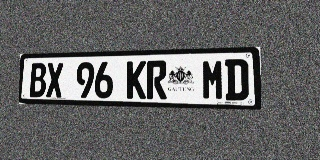6: (94, 61, 113, 98)
9: (76, 62, 94, 98)
B: (30, 63, 46, 97)
D: (225, 59, 249, 101)
K: (126, 61, 146, 99)
M: (202, 59, 224, 100)
R: (147, 60, 167, 99)
X: (46, 62, 63, 97)
